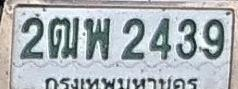2: (20, 15, 44, 60), (121, 17, 145, 60)
3: (176, 18, 197, 59)
4: (150, 17, 172, 60)
9: (201, 18, 224, 59)
A18: (48, 16, 80, 59)
A30: (84, 17, 110, 60)
